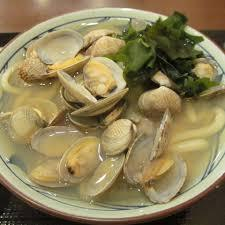asari: (1, 5, 225, 222)
